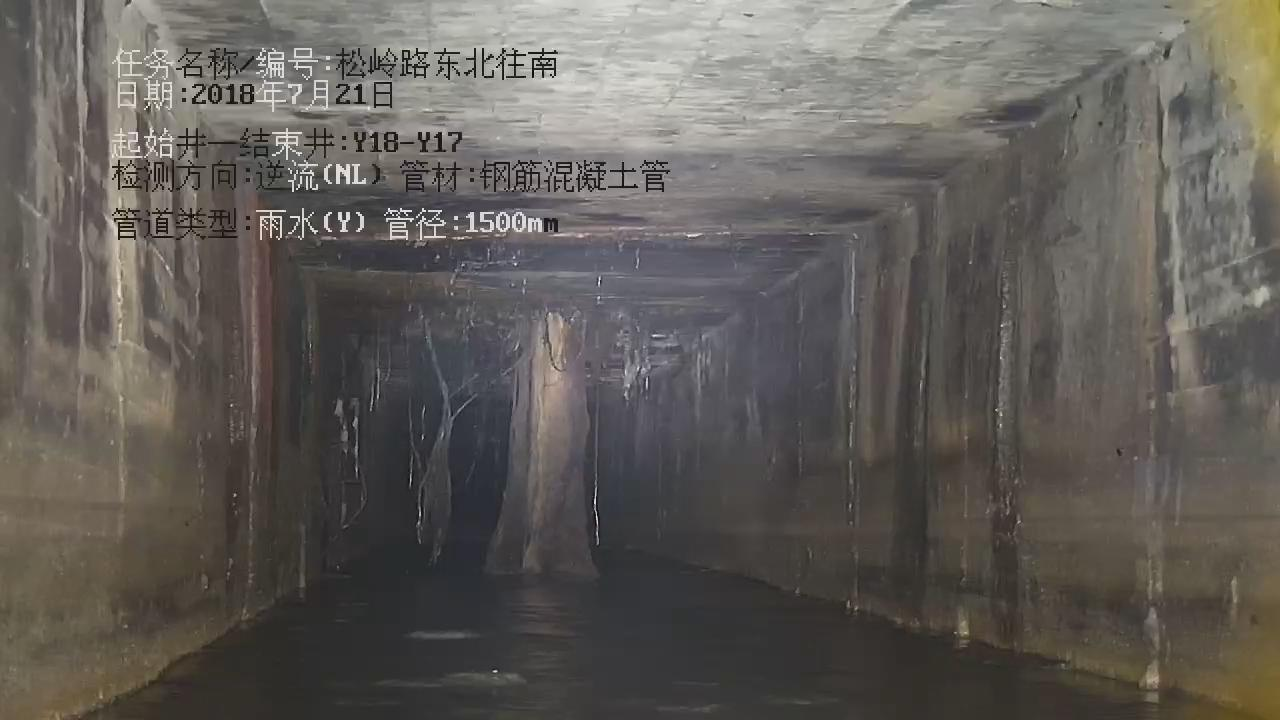SG: (329, 308, 675, 574)
